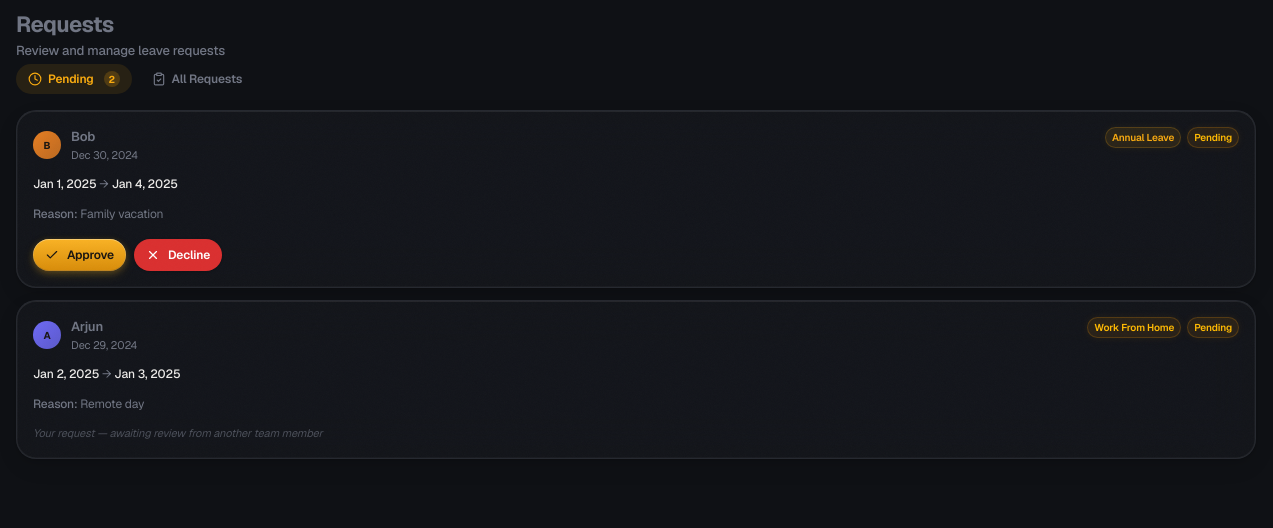
Test: RequestsScreen › shows error message when approve fails
Click the button "Approve" at (79, 255), box top-left (33, 239), bottom-right (126, 271)
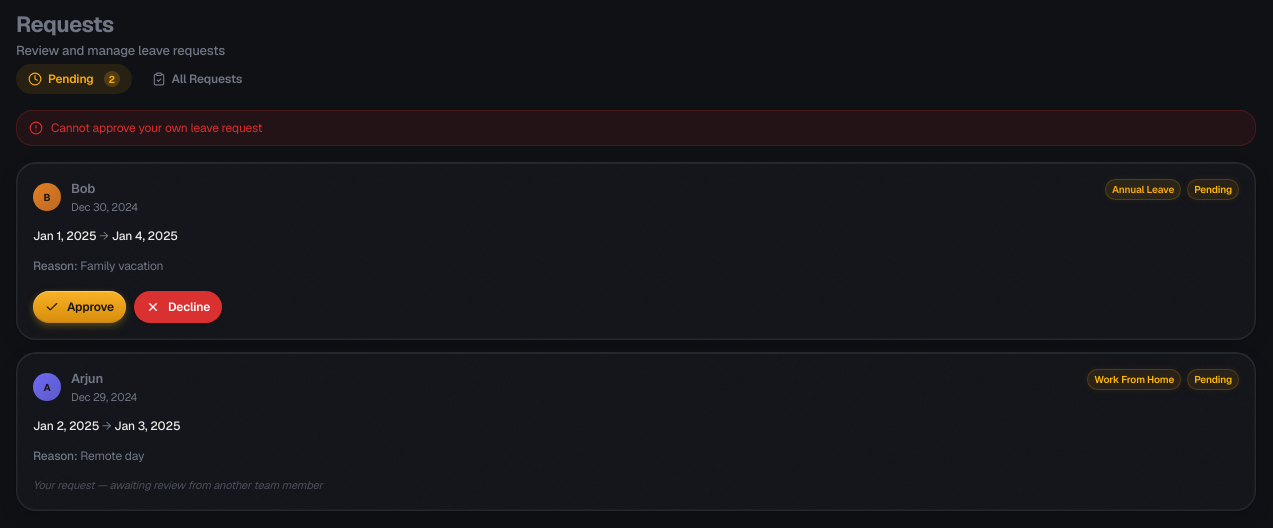
Now the text "Cannot approve your own leave request" is shown, box top-left (16, 110), bottom-right (1256, 146)
